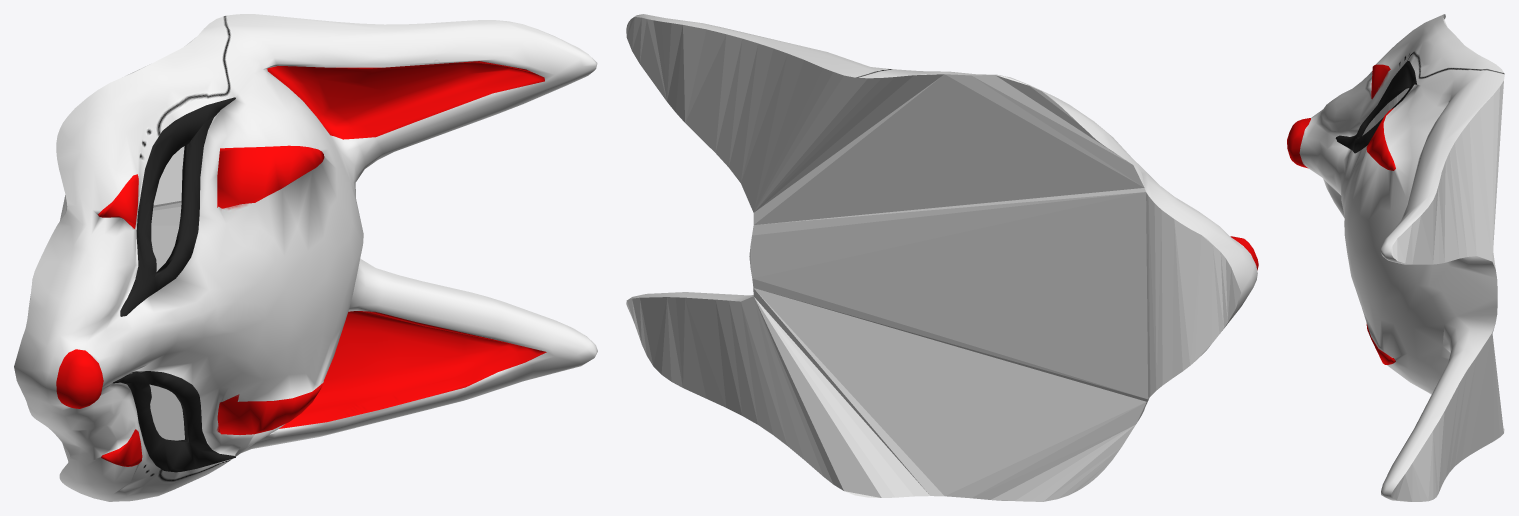
Rendered from M_KitsuneMask.fbx.
3 renders of one model, left to right at view 1: azimuth 30°, elevation 25°; view 2: azimuth 150°, elevation 25°; view 3: azimuth 270°, elevation 25°, orthographic. The views are drawn at different scales.
Visible parts, largest first — view 1: Kitsune.001; view 2: Kitsune.001; view 3: Kitsune.001.
Part boxes in pixels (<box>): Kitsune.001: <box>14,14,597,501</box>; Kitsune.001: <box>626,14,1258,501</box>; Kitsune.001: <box>1287,14,1504,501</box>.
Size of the model in its own units: 0.1786 by 0.1227 by 0.067.
